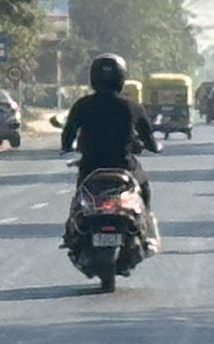BikeWithRider: (44, 50, 174, 295)
Helmet: (86, 50, 129, 97)
